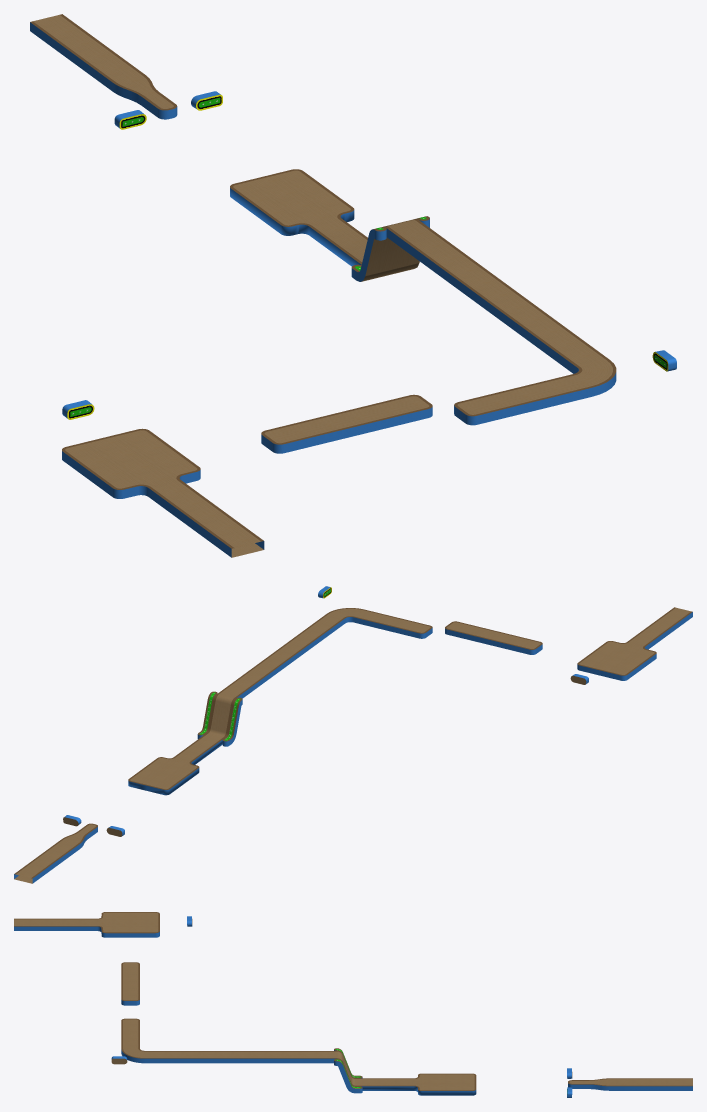
Rendered from ramp_11.FBX.
3 views of the same model, one above another, from view 1: azimuth 30°, elevation 25°; view 2: azimuth 150°, elevation 25°; view 3: azimuth 270°, elevation 25° (orthographic). The views are drawn at different scales.
Visible parts, largest first — view 1: ramp_11; view 2: ramp_11; view 3: ramp_11.
Boxes of the visible parts, x1=… form: ramp_11: x1=30, y1=14, x2=676, y2=557; ramp_11: x1=14, y1=586, x2=692, y2=883; ramp_11: x1=14, y1=912, x2=692, y2=1097.
Size of the model in its own units: 7917 by 1410 by 16290.
